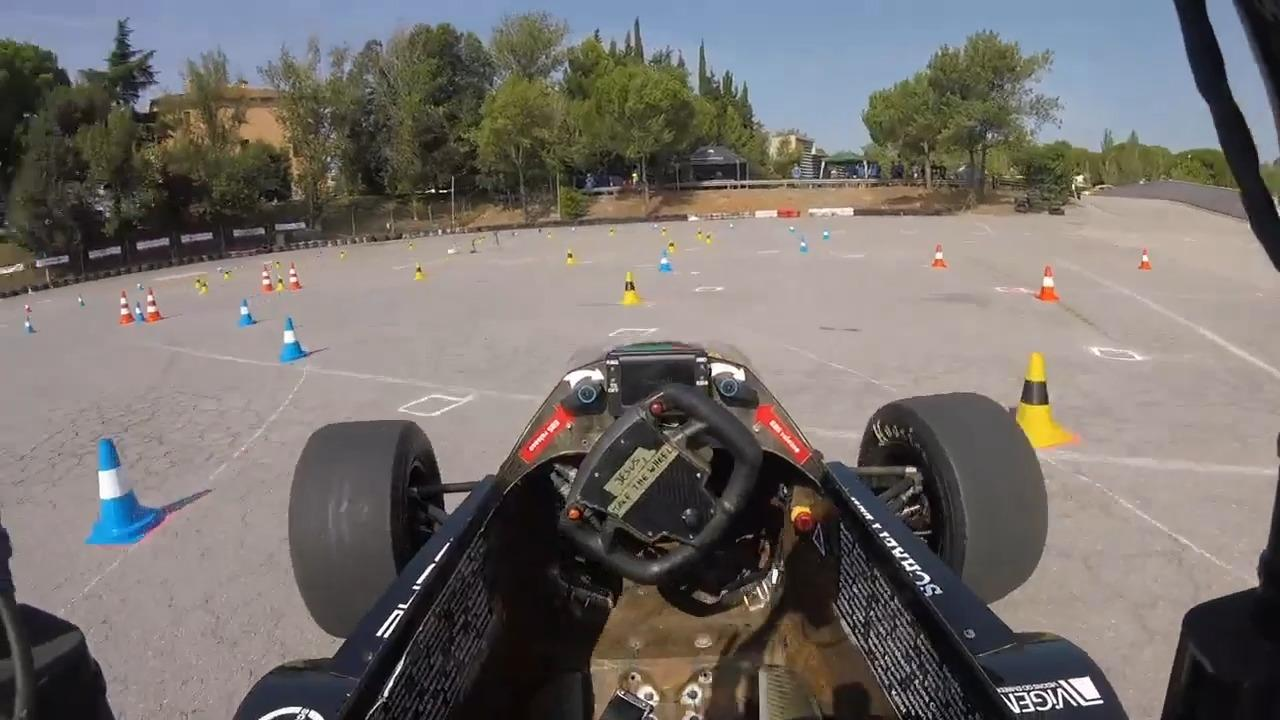blue_cone: (88, 435, 165, 555), (279, 314, 308, 366), (237, 298, 256, 327), (23, 314, 38, 337), (660, 250, 674, 272), (134, 302, 146, 325), (797, 236, 810, 254), (74, 292, 87, 308), (822, 228, 832, 243), (787, 224, 796, 235)
large_orange_cone: (117, 289, 136, 326), (146, 288, 165, 323), (286, 264, 302, 291), (261, 265, 274, 295)
orange_cone: (1031, 266, 1062, 303), (1136, 243, 1156, 272), (932, 244, 952, 270)
yellow_cone: (992, 357, 1064, 451), (619, 272, 645, 309), (413, 260, 428, 284), (564, 248, 579, 267), (276, 273, 288, 293), (667, 240, 678, 258), (199, 278, 209, 294), (194, 273, 203, 289), (704, 233, 714, 246), (696, 227, 705, 241), (607, 226, 617, 238), (661, 226, 668, 237)
